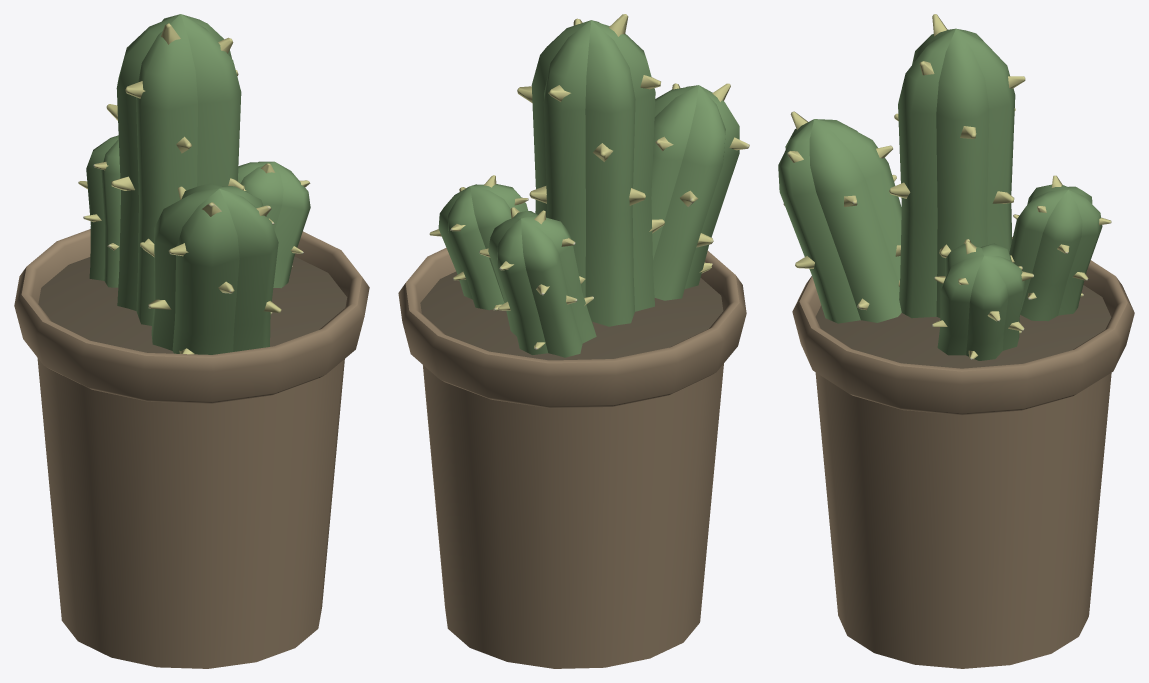
Rendered from Cactus.fbx.
The picture shows the model from 3 angles, left to right: view 1: azimuth 30°, elevation 25°; view 2: azimuth 150°, elevation 25°; view 3: azimuth 270°, elevation 25°; orthographic projection. The views are drawn at different scales.
Parts seen in each view (by area): view 1: Cactus1; view 2: Cactus1; view 3: Cactus1.
Boxes of the visible parts, x1=… form: Cactus1: x1=14, y1=14, x2=369, y2=668; Cactus1: x1=398, y1=14, x2=749, y2=668; Cactus1: x1=778, y1=14, x2=1134, y2=668.
Bounding box in the file's own units: 13.21 × 24.84 × 13.75.
Materials: 1 (1 with a texture image).
